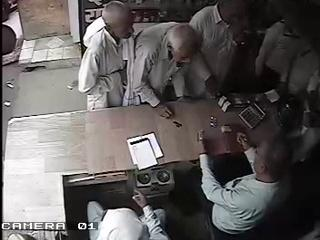Normal: (198, 118, 294, 240), (125, 21, 206, 117), (188, 0, 255, 98), (89, 192, 170, 240)
shoplifting: (78, 1, 136, 110)
